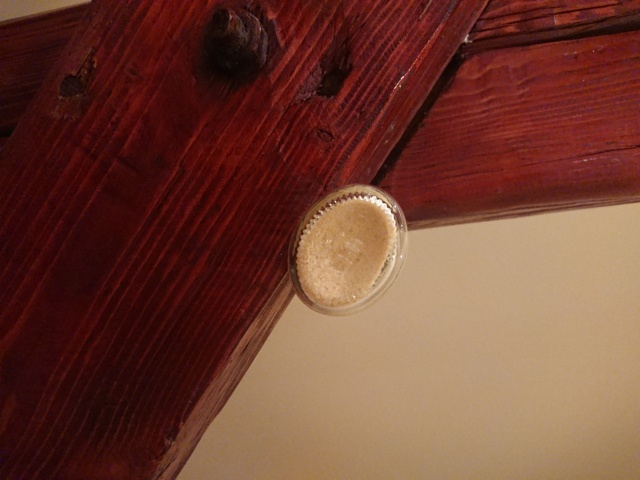Kotanyi Garlic Granules 70g: (285, 181, 411, 319)
